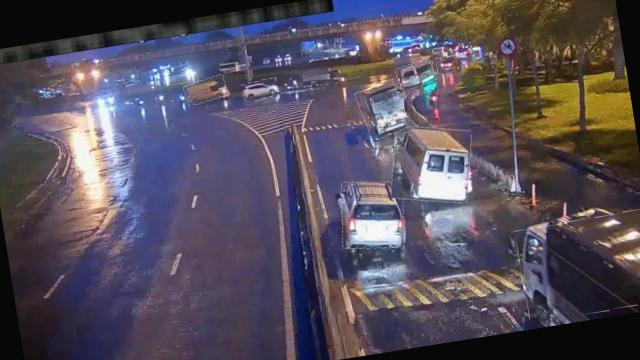Bike: (426, 82, 440, 107)
Bus: (384, 118, 478, 209), (184, 74, 229, 105), (396, 57, 438, 90)
Car: (336, 174, 410, 253), (242, 78, 278, 101), (437, 54, 462, 73)
Truck: (514, 208, 640, 322), (356, 79, 409, 140)
